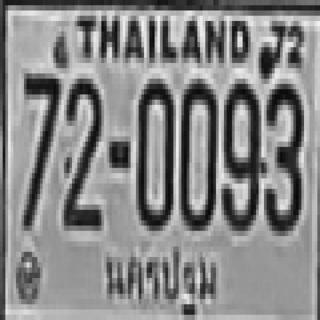N00: (179, 73, 216, 226), (135, 73, 172, 226)
N02: (63, 73, 100, 226)
N03: (261, 79, 301, 231)
N07: (21, 68, 59, 226)
N09: (220, 79, 260, 226)
P28: (97, 244, 223, 320)
